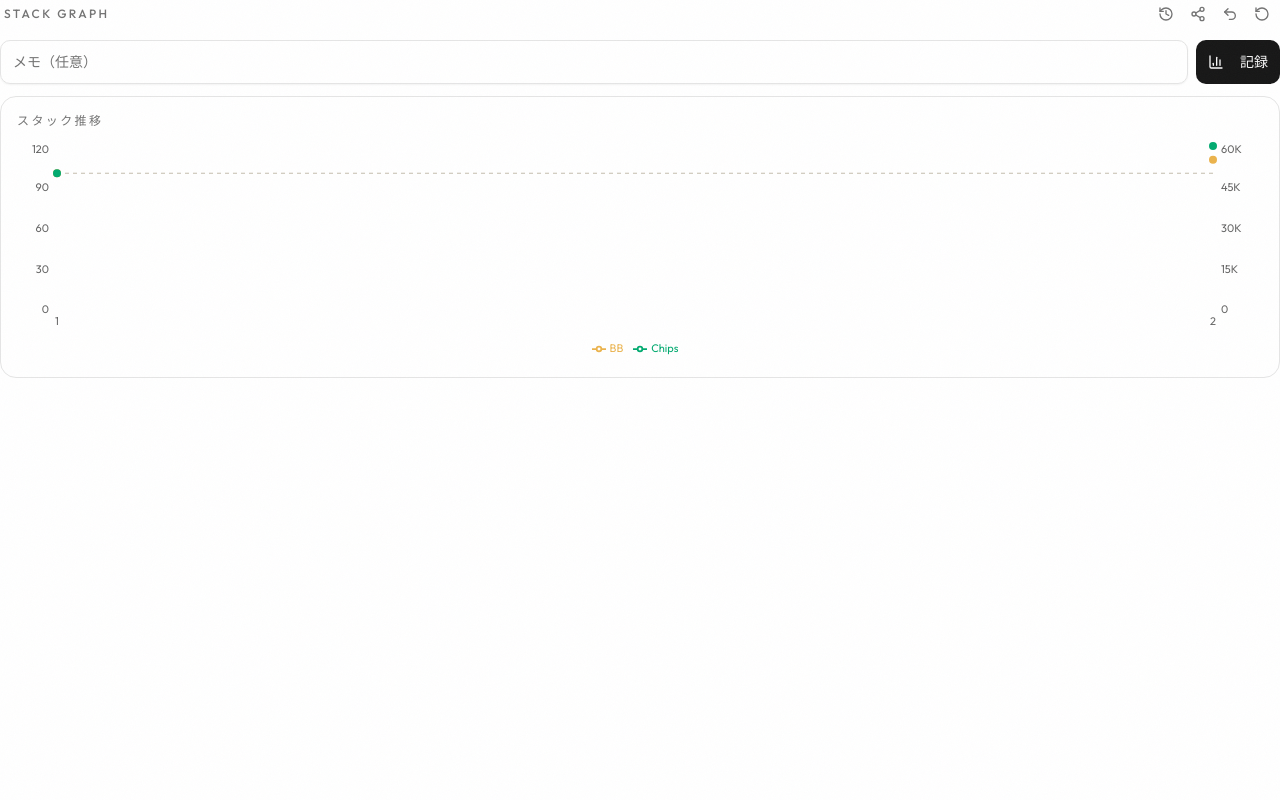
Test: StackRecordSection リセットダイアログ › リセットボタンクリックでダイアログが開く
The image size is (1280, 800).
Click the button named "新しいセッションを開始" at (1262, 14), box [1248,0,1276,28]
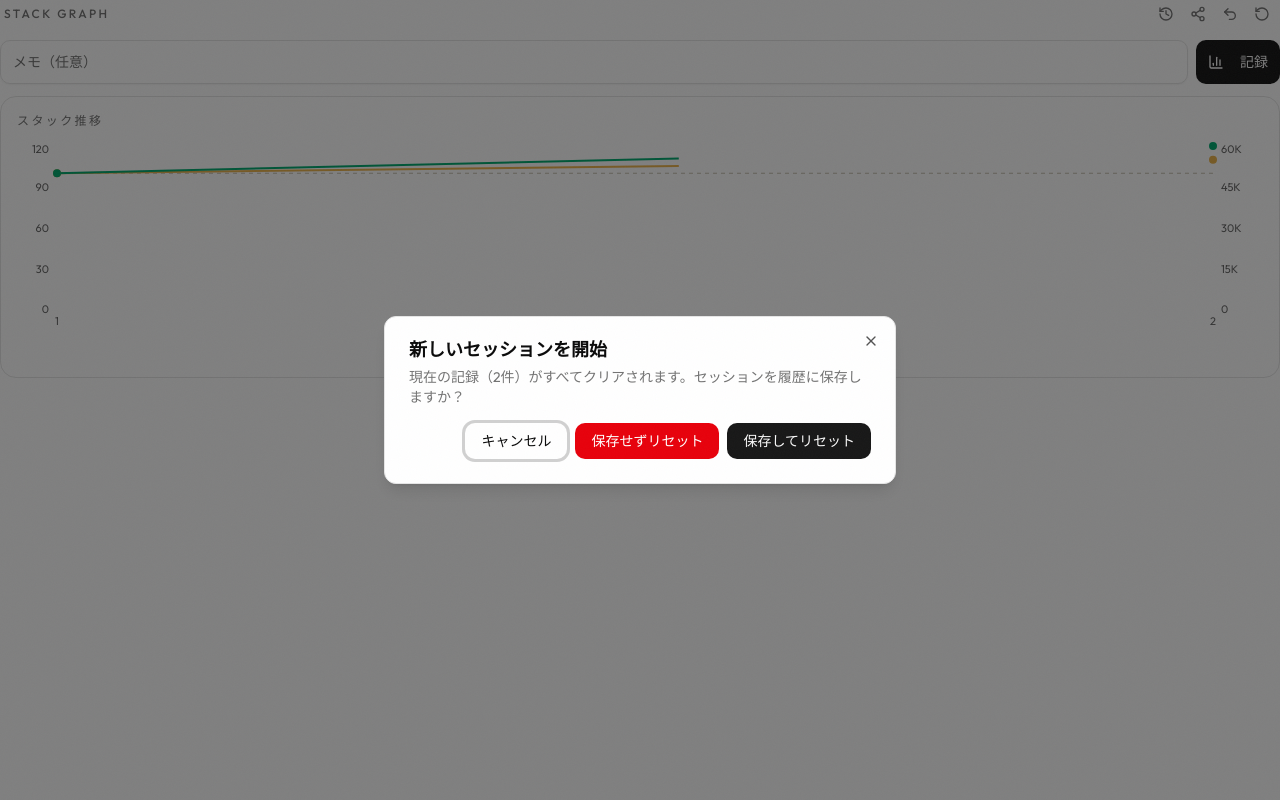
Now the heading "新しいセッションを開始" is shown, box [409,338,607,361]
